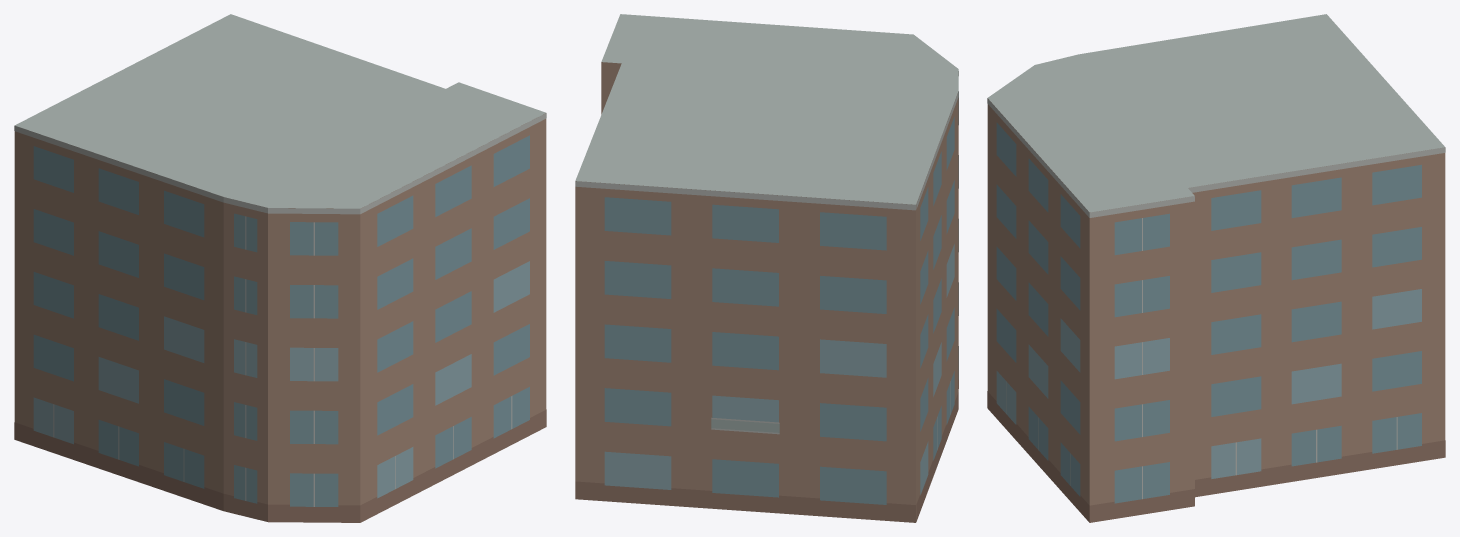
Rendered from survey-upis-32549216.glb.
3 renders of one model, left to right at view 1: azimuth 30°, elevation 25°; view 2: azimuth 150°, elevation 25°; view 3: azimuth 270°, elevation 25°, orthographic. The views are drawn at different scales.
Visible parts, largest first — view 1: survey-upis-32549216.tmp; view 2: survey-upis-32549216.tmp; view 3: survey-upis-32549216.tmp.
Part boxes in pixels (left/top/right/bottom): survey-upis-32549216.tmp: left=14, top=14, right=546, bottom=522; survey-upis-32549216.tmp: left=575, top=14, right=958, bottom=522; survey-upis-32549216.tmp: left=987, top=14, right=1445, bottom=522.
Size of the model in its own units: 18.67 by 13.6 by 18.2.
